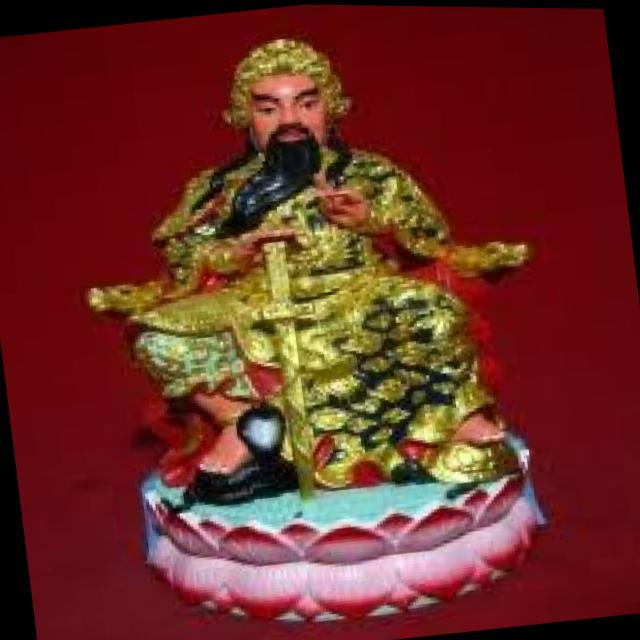Xuan wu: (146, 8, 450, 533)
